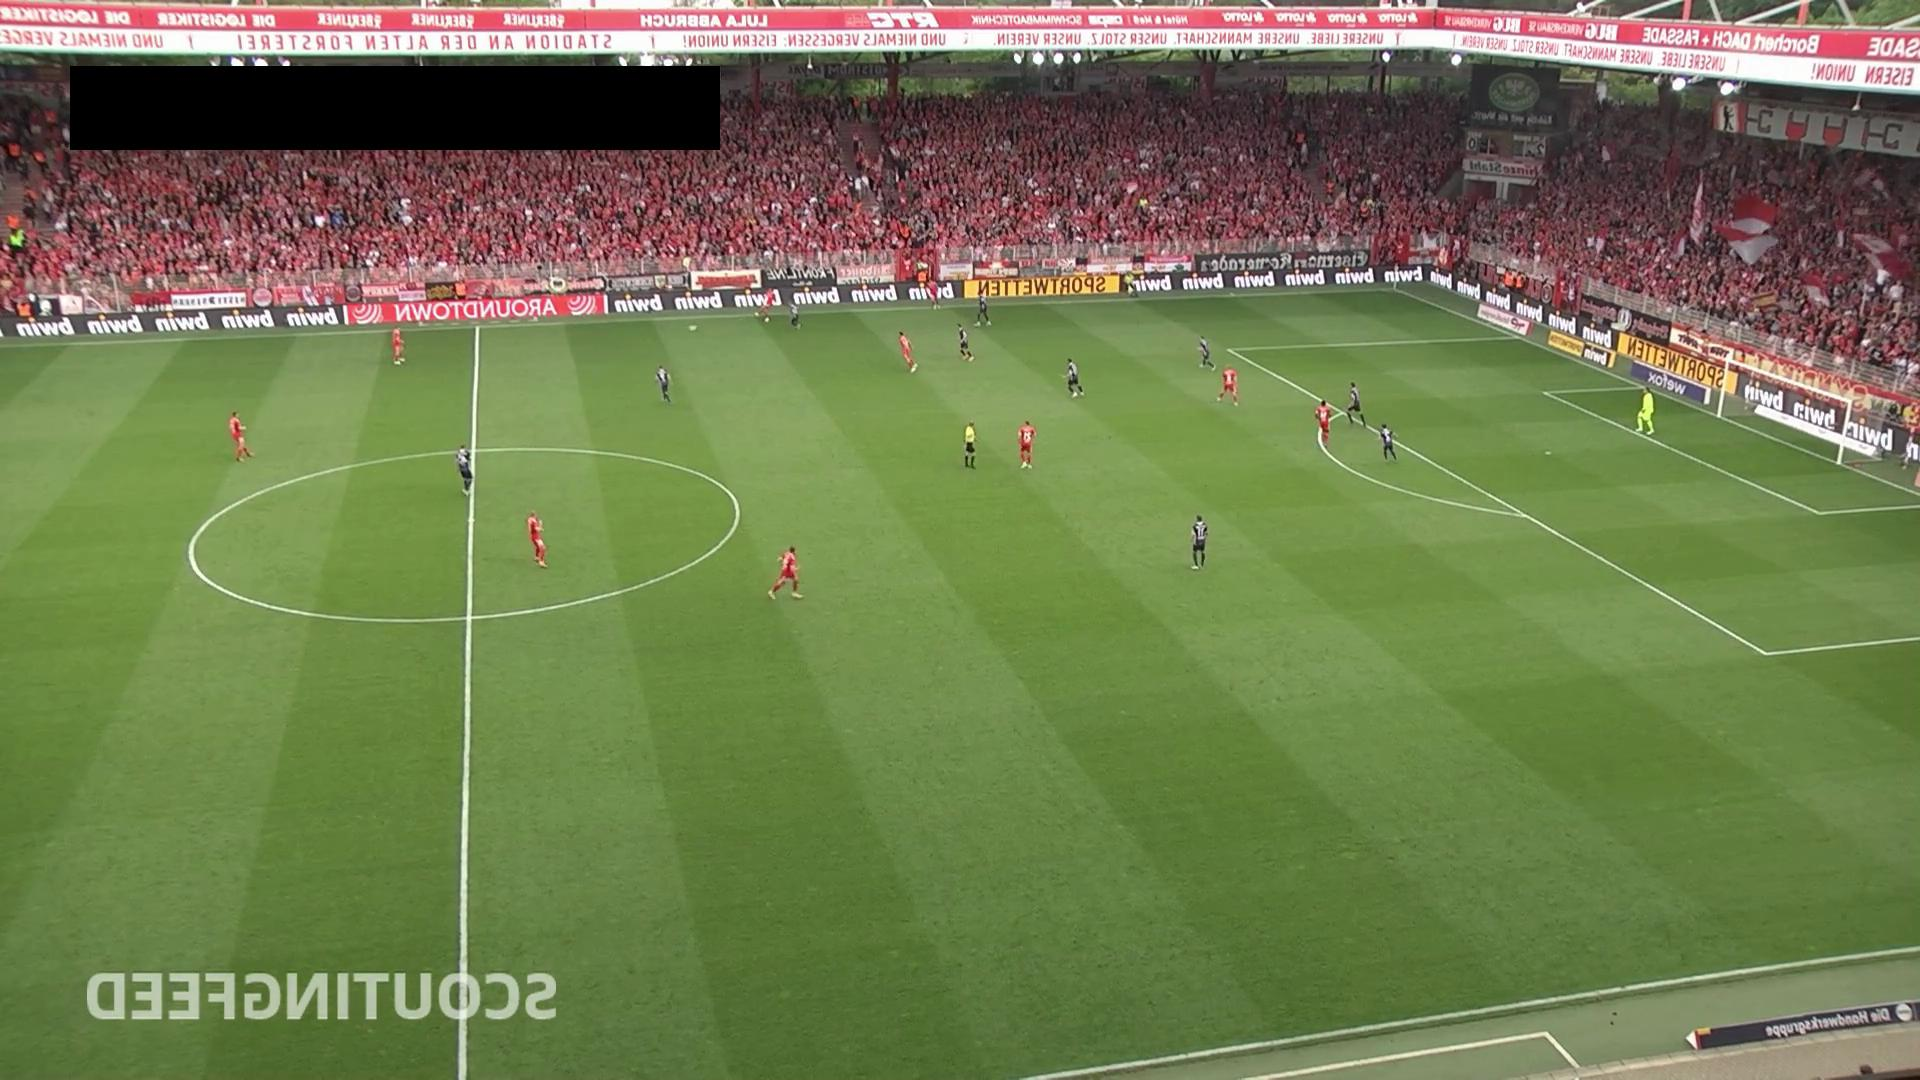ball: (688, 323, 699, 333)
goalkeeper: (1635, 387, 1656, 433)
player: (768, 545, 804, 600), (228, 410, 254, 462), (527, 510, 548, 567), (1314, 398, 1336, 450), (1190, 514, 1209, 570), (455, 442, 474, 496), (1018, 419, 1037, 470), (1064, 357, 1086, 400), (1379, 422, 1400, 466), (1216, 366, 1239, 406), (1346, 381, 1365, 427), (753, 286, 776, 324), (898, 330, 918, 373), (655, 364, 672, 404), (925, 276, 942, 311), (786, 299, 803, 333), (957, 324, 973, 360), (391, 327, 406, 365), (1197, 337, 1214, 369), (976, 291, 991, 326)
referee: (962, 420, 978, 469), (1123, 269, 1139, 299)
